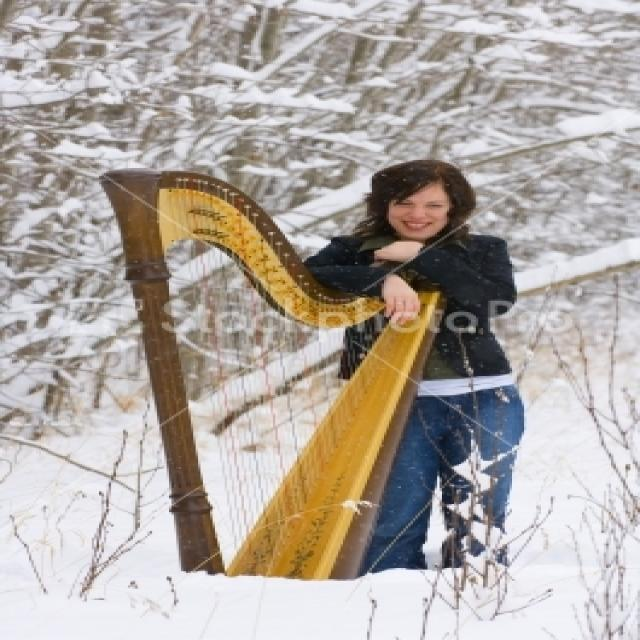harp: (90, 166, 444, 580)
